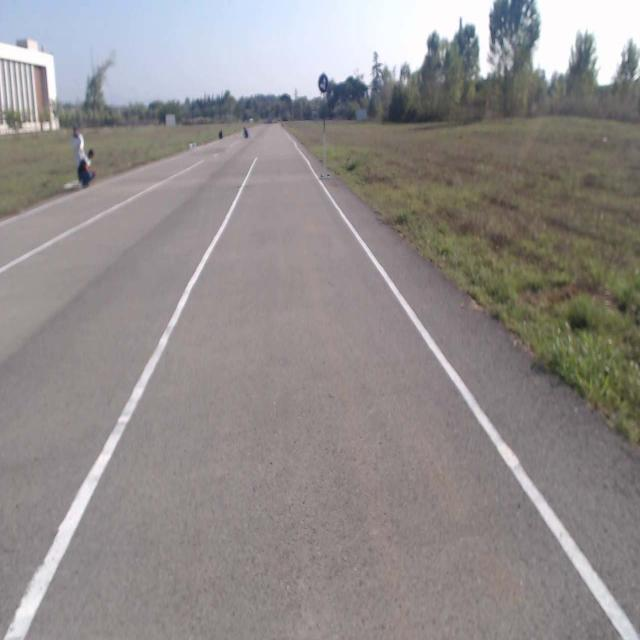ilerisol: (318, 74, 327, 92)
